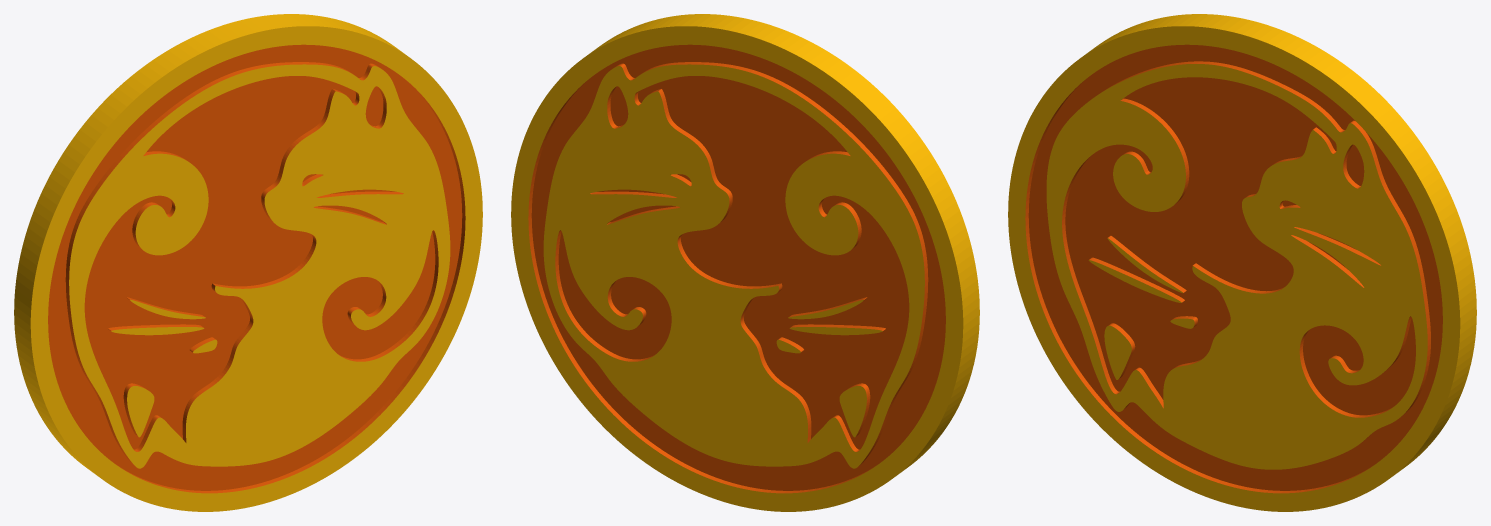
File: cat coin.fbx
The picture shows the model from 3 angles, left to right: view 1: azimuth 30°, elevation 25°; view 2: azimuth 150°, elevation 25°; view 3: azimuth 330°, elevation 25°; orthographic projection.
Visible parts, largest first — view 1: CatCoin_LOD0; view 2: CatCoin_LOD0; view 3: CatCoin_LOD0.
Boxes of the visible parts, <box> form: CatCoin_LOD0: <box>14,14,482,511</box>; CatCoin_LOD0: <box>511,14,979,511</box>; CatCoin_LOD0: <box>1008,14,1476,511</box>.
Size of what is drawn, in the model's own units: 7849 by 7849 by 500.
